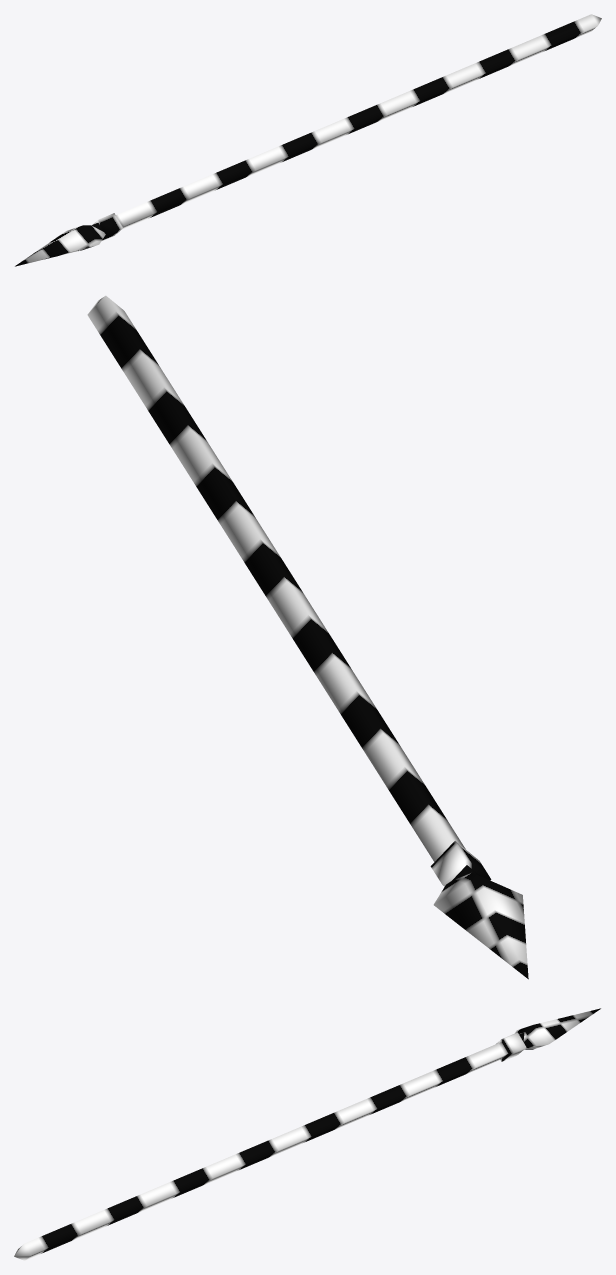
File: initwesp3.dae
3 renders of one model, top to bottom at view 1: azimuth 90°, elevation 25°; view 2: azimuth 150°, elevation 25°; view 3: azimuth 270°, elevation 25°, orthographic. The views are drawn at different scales.
Visible parts, largest first — view 1: weapon; view 2: weapon; view 3: weapon.
Part boxes in pixels (x1,y1,x2,y2): weapon: (15,14,601,266); weapon: (87,295,528,979); weapon: (14,1008,600,1260).
Size of the model in its own units: 2.19 by 2.19 by 0.1015.
1 material, 1 textured.
